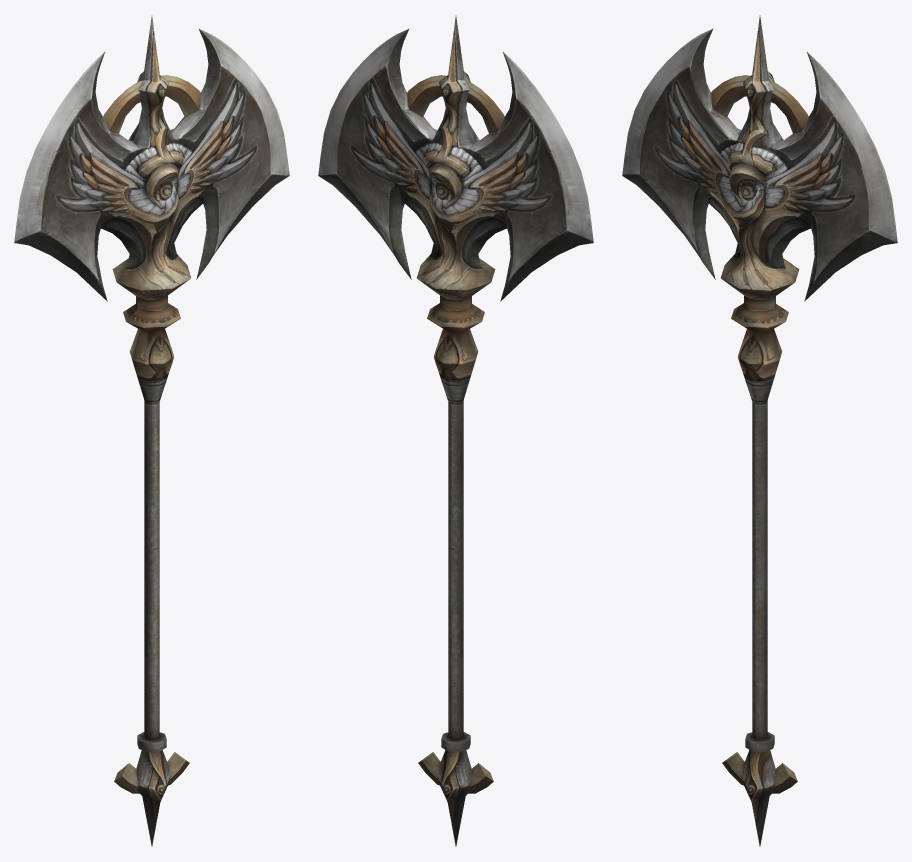
The model's file is Weapon_49.fbx.
3 renders of one model, left to right at view 1: azimuth 30°, elevation 25°; view 2: azimuth 150°, elevation 25°; view 3: azimuth 330°, elevation 25°, orthographic.
Visible parts, largest first — view 1: Weapon_49; view 2: Weapon_49; view 3: Weapon_49.
Boxes of the visible parts, <box> form: Weapon_49: <box>14,15,289,846</box>; Weapon_49: <box>318,15,593,846</box>; Weapon_49: <box>622,15,897,846</box>.
Size of the model in its own units: 78.9 by 20.25 by 228.
